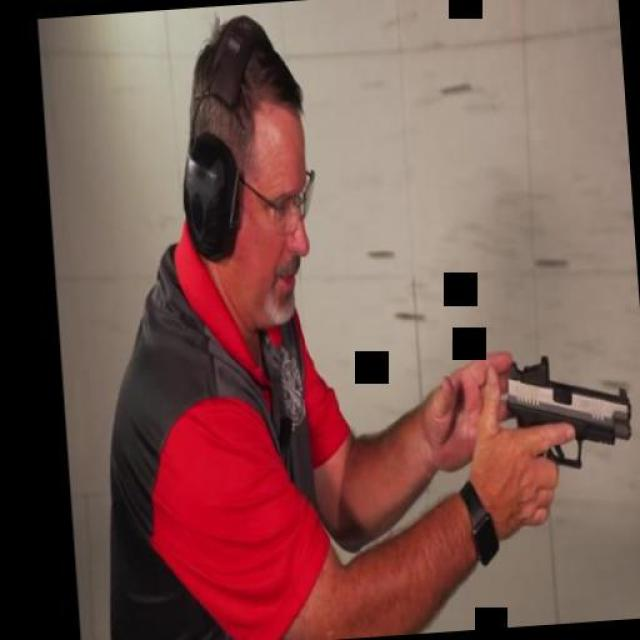gun: (495, 352, 639, 528)
